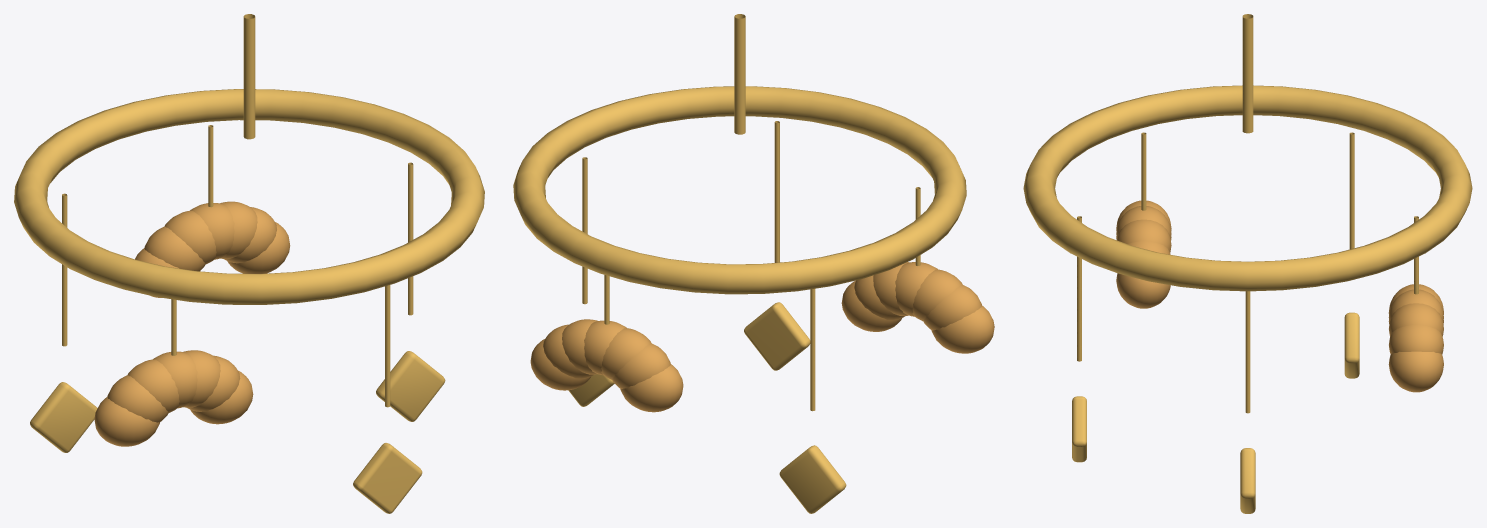
3 views of the same model, side by side, from view 1: azimuth 30°, elevation 25°; view 2: azimuth 150°, elevation 25°; view 3: azimuth 270°, elevation 25° (orthographic). The views are drawn at different scales.
Parts seen in each view (by area): view 1: Mobile ring, Flaky crescent, Ceiling chain; view 2: Mobile ring, Flaky crescent, Ceiling chain; view 3: Mobile ring, Flaky crescent, Ceiling chain.
Part boxes in pixels (x1=…): Mobile ring: x1=14, y1=89, x2=484, y2=513; Flaky crescent: x1=94, y1=201, x2=290, y2=446; Ceiling chain: x1=243, y1=14, x2=255, y2=139; Mobile ring: x1=513, y1=86, x2=966, y2=513; Flaky crescent: x1=530, y1=262, x2=994, y2=412; Ceiling chain: x1=734, y1=14, x2=745, y2=134; Mobile ring: x1=1023, y1=85, x2=1472, y2=513; Flaky crescent: x1=1116, y1=200, x2=1443, y2=392; Ceiling chain: x1=1242, y1=14, x2=1253, y2=133.
Size of the model in its own units: 0.714 by 0.7365 by 0.71.
